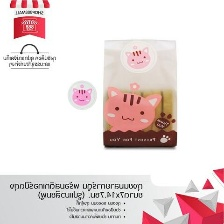snack: (96, 32, 187, 155)
